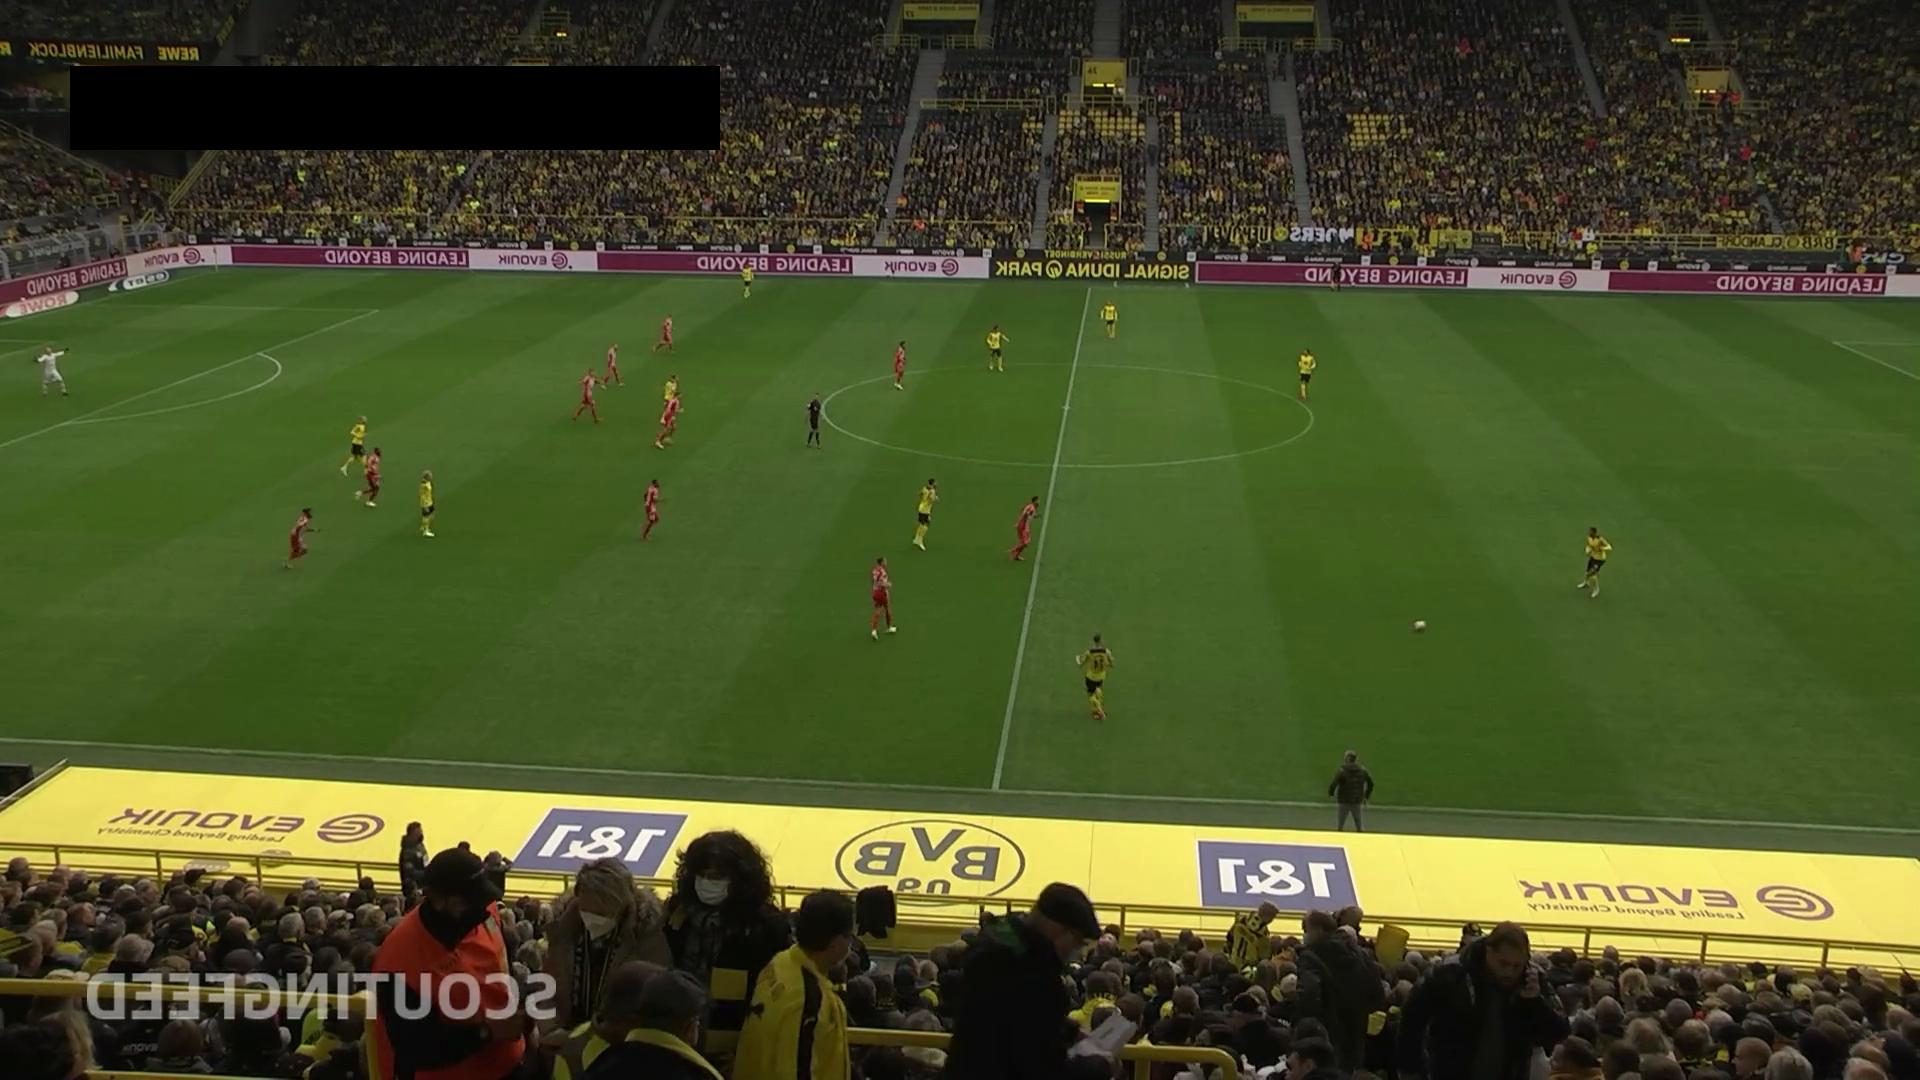ball: (1413, 620, 1427, 633)
goalkeeper: (33, 343, 70, 396)
player: (1077, 631, 1114, 721), (280, 507, 322, 570), (1577, 526, 1613, 599), (870, 555, 897, 641), (1008, 494, 1040, 561), (911, 477, 939, 551), (572, 368, 605, 424), (340, 414, 369, 477), (654, 393, 682, 449), (640, 478, 663, 542), (360, 446, 382, 507), (985, 324, 1011, 372), (418, 469, 436, 537), (1296, 347, 1317, 401), (603, 343, 625, 386), (653, 315, 674, 354), (1100, 298, 1119, 339), (893, 340, 907, 391), (740, 261, 754, 299)
referee: (805, 393, 823, 449), (1328, 255, 1345, 294)
